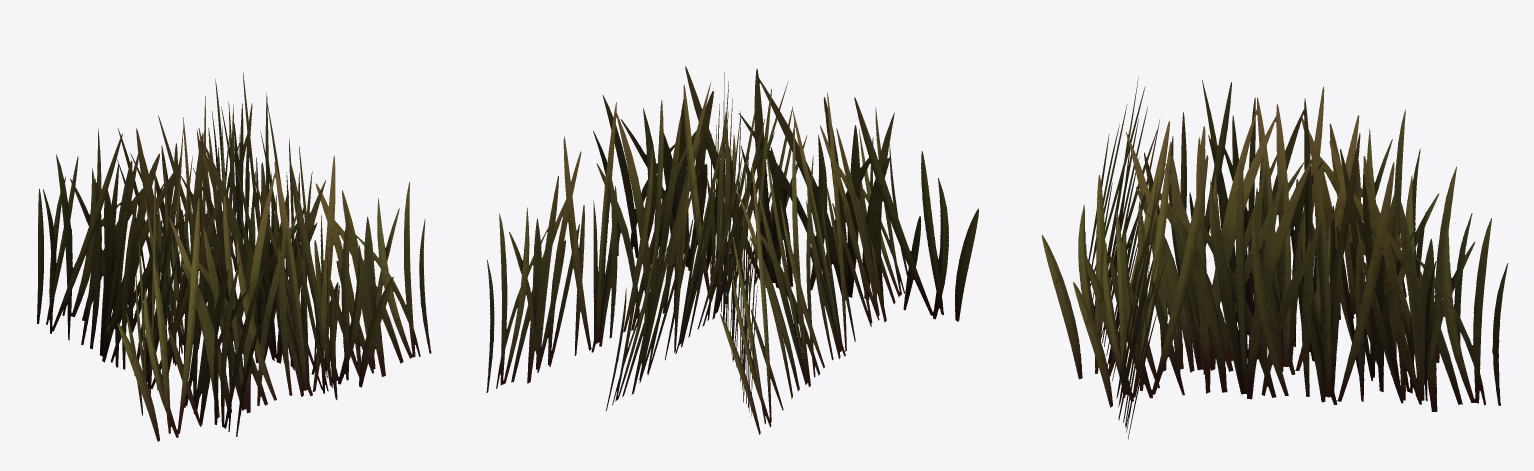
Rendered from grass3.glb.
3 renders of one model, left to right at view 1: azimuth 30°, elevation 25°; view 2: azimuth 150°, elevation 25°; view 3: azimuth 270°, elevation 25°, orthographic. The views are drawn at different scales.
Visible parts, largest first — view 1: mid-material; view 2: mid-material; view 3: mid-material.
Boxes of the visible parts, bbox=[...] form: mid-material: bbox=[37, 72, 431, 441]; mid-material: bbox=[486, 66, 978, 434]; mid-material: bbox=[1041, 77, 1508, 439].
Size of the model in its own units: 1.39 by 0.9476 by 1.54.
Materials: 1 (1 with a texture image).
